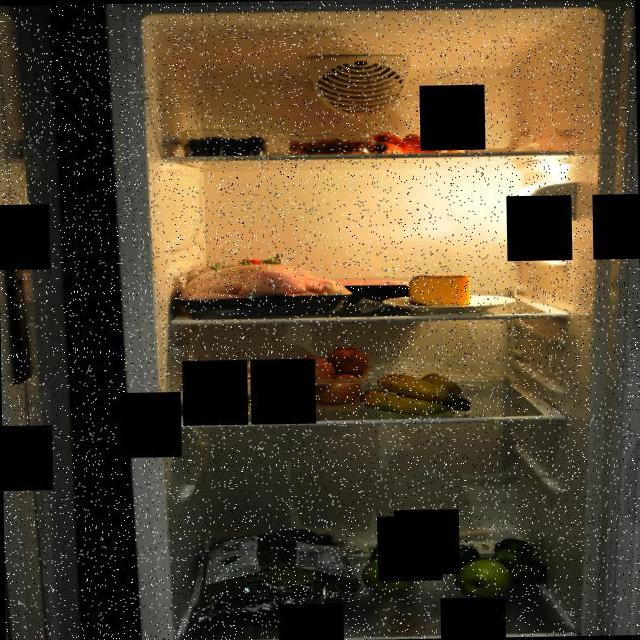Cebolla: (278, 346, 370, 408)
Champiñones: (192, 356, 274, 420)
Gambas/Langostinos: (288, 136, 372, 158)
Manzana: (363, 534, 430, 600), (456, 557, 512, 603)
Plátano: (360, 371, 474, 418)
Queso: (406, 272, 472, 308)
Tomate: (171, 261, 356, 316)
Zanahoria: (367, 125, 471, 156)
